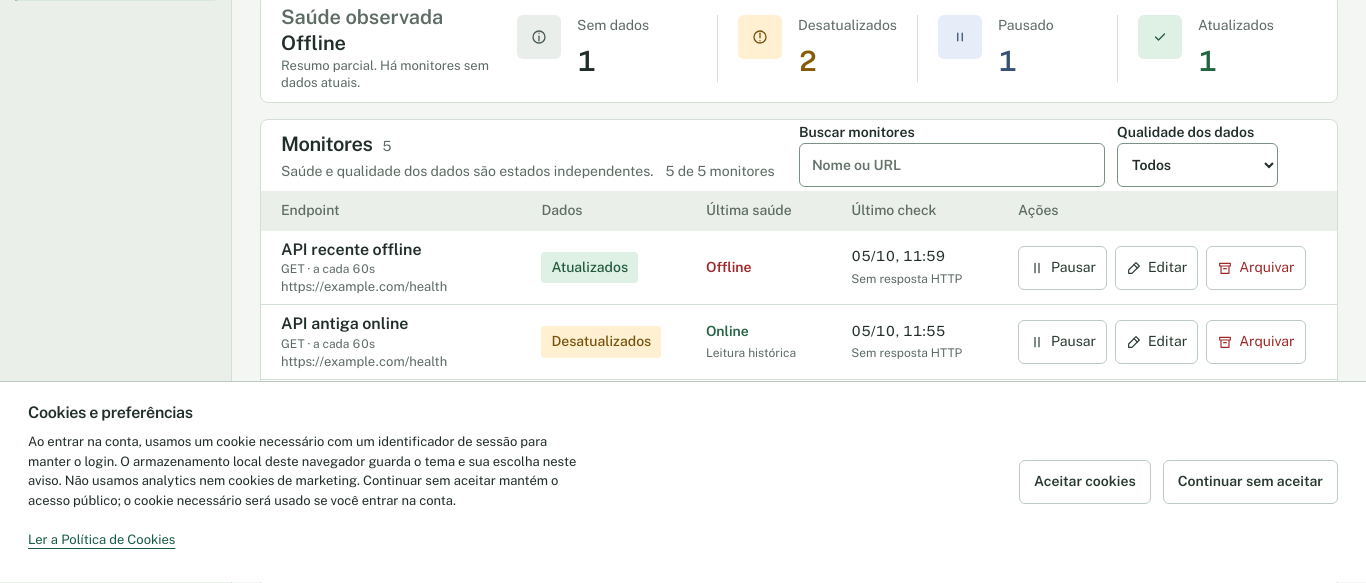
Test: combina busca nome/URL com qualidade e limpa ambos pelo teclado devolvendo foco
Check: the text "5 de 5 monitores" is shown, box [666,162,775,181]
Select "Sem dados" in the dropdown labelled "Qualidade dos dados" at (1198, 165), box [1117,143,1278,187]
(page scrolled)
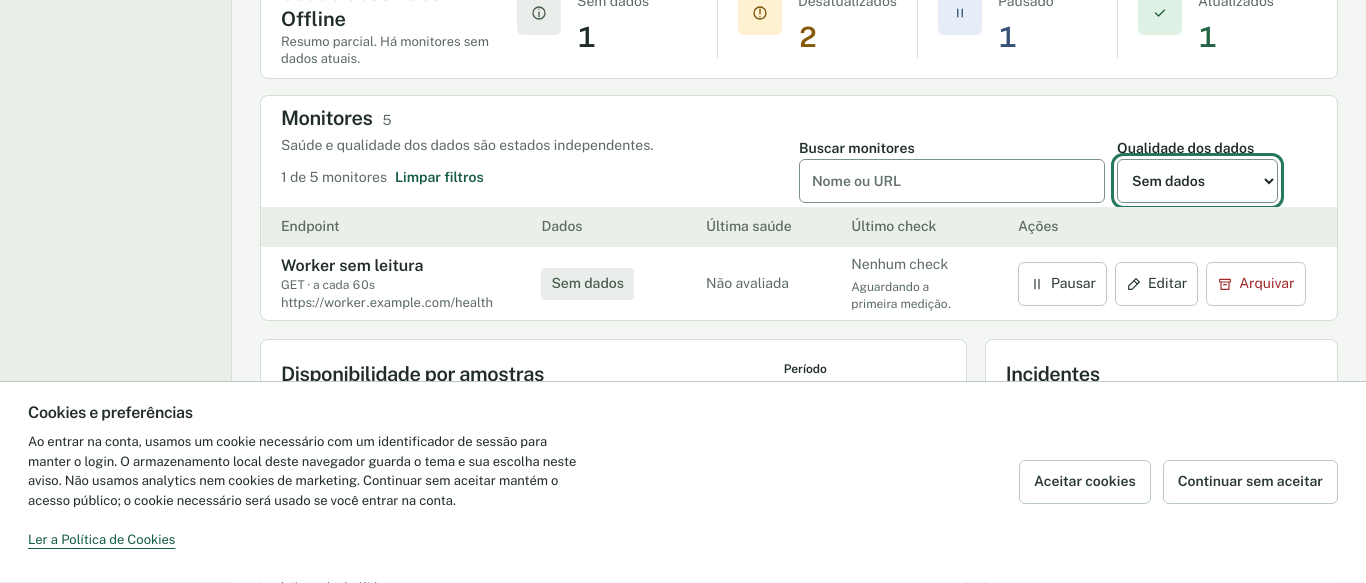
Type "WORKER.EXAMPLE.COM" into the search field labelled "Buscar monitores" at (952, 182), box [799,160,1105,204]
(page scrolled)
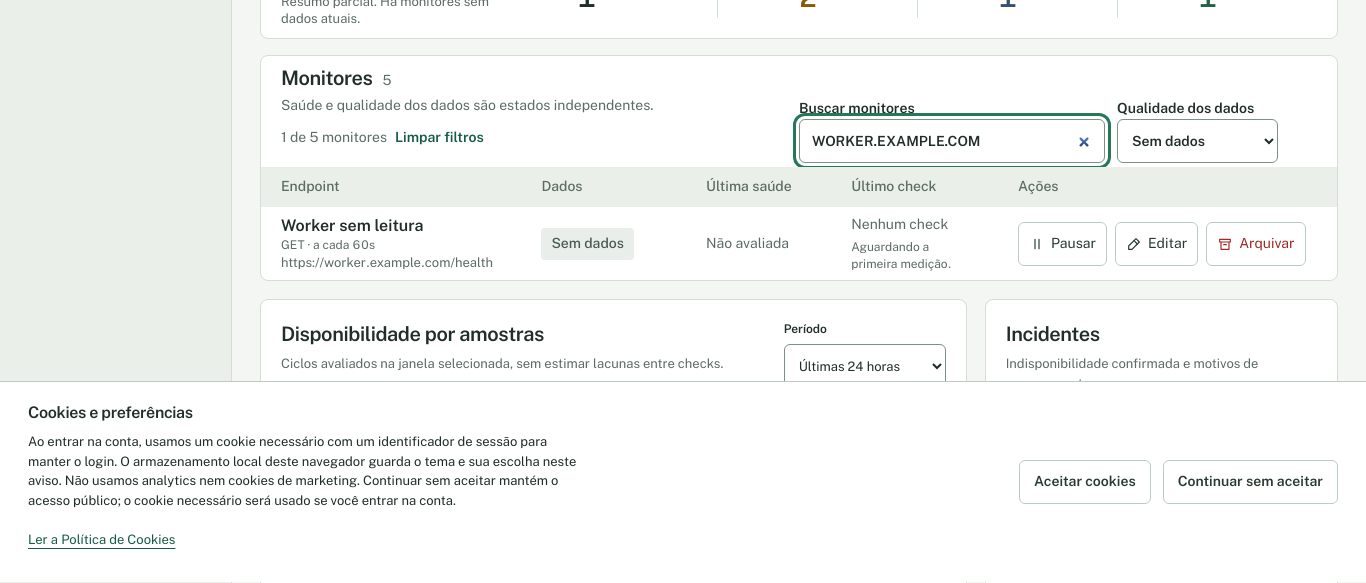
Check: the button with aria-label "Ver histórico de Worker sem leitura" is shown, box [281,215,501,272]
Check: the text "1 de 5 monitores" is shown, box [281,128,387,147]
Select "Atualizados" in the dropdown labelled "Qualidade dos dados" at (1198, 142), box [1117,120,1278,164]
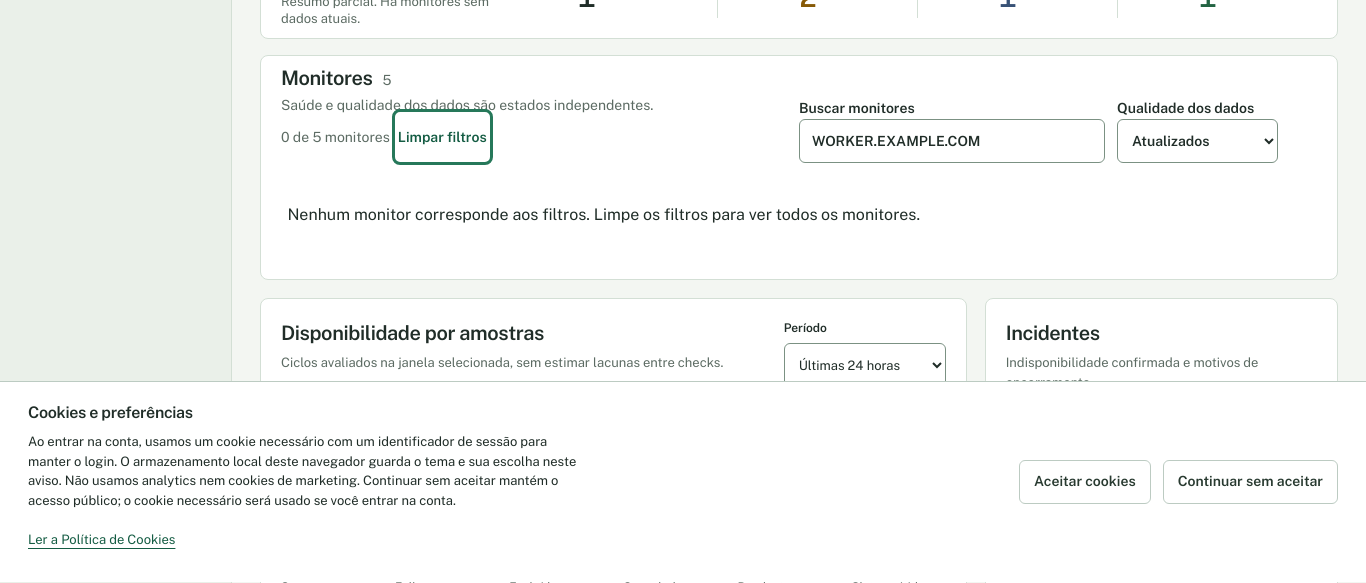
Check: the table "Monitores do projeto Aplicação" is not shown
Check: the text "0 de 5 monitores" is shown, box [281,128,390,147]
Check: the text "Nenhum monitor corresponde aos filtros" is shown, box [287,206,920,224]
Press Enter
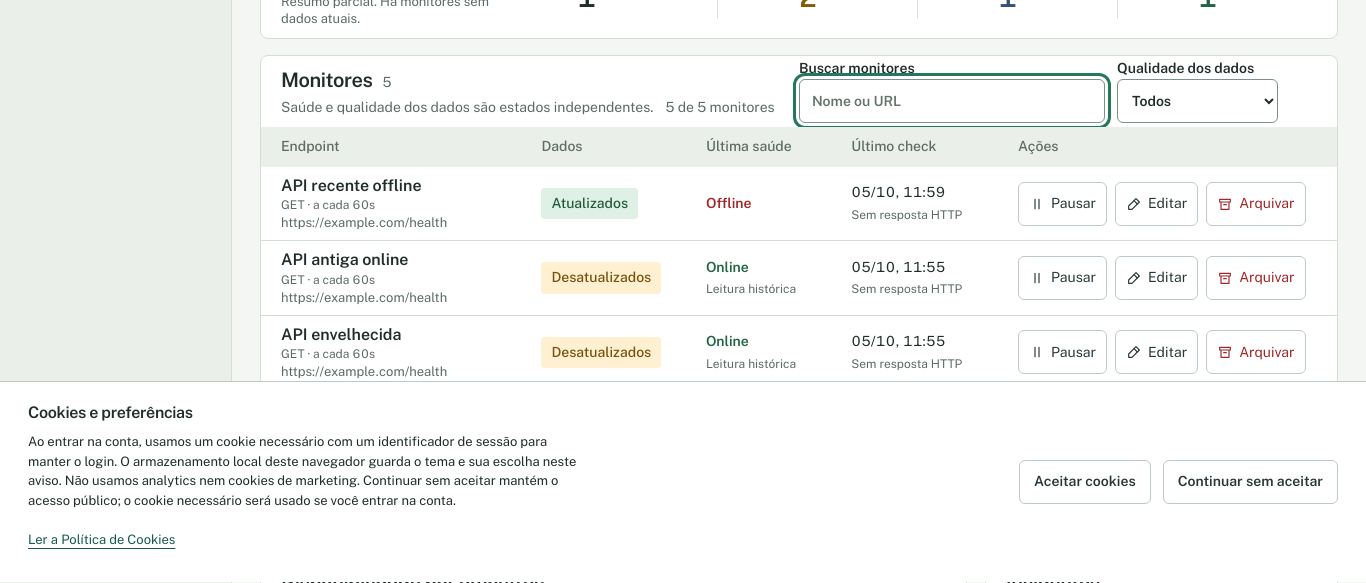
Check: the search field labelled "Buscar monitores" is empty
Check: the text "5 de 5 monitores" is shown, box [666,98,775,117]
Check: the button "Limpar filtros" is gone
Type "ANTIGA" into the search field labelled "Buscar monitores" at (952, 101), box [799,79,1105,123]
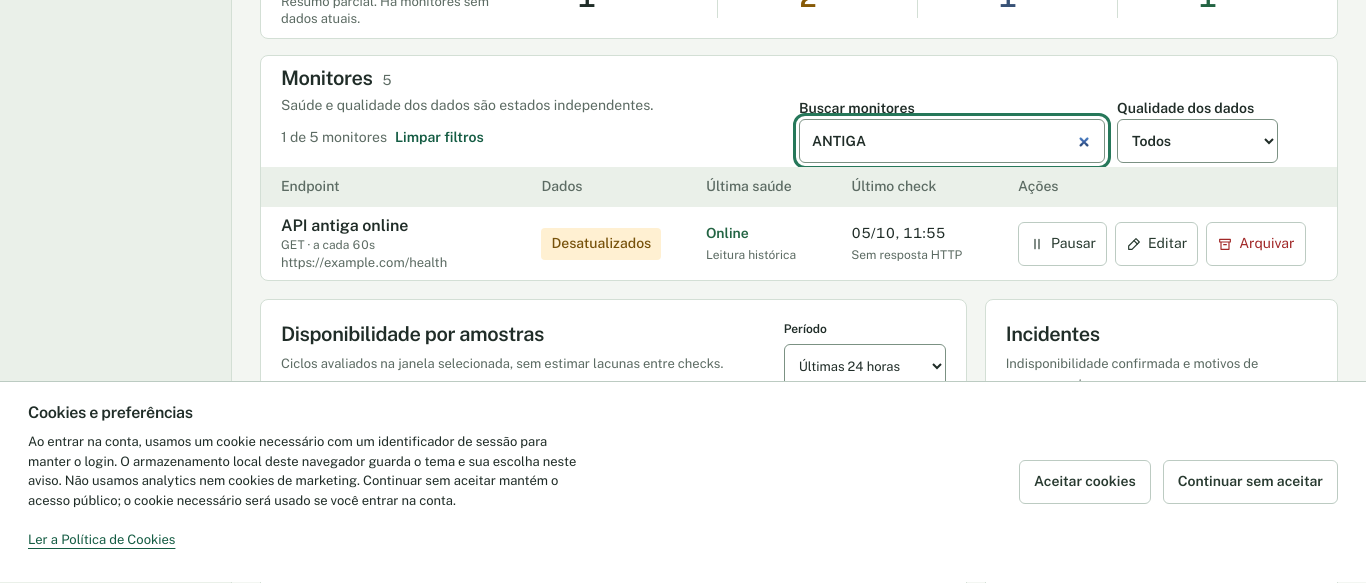
Check: the text "1 de 5 monitores" is shown, box [281,128,387,147]
